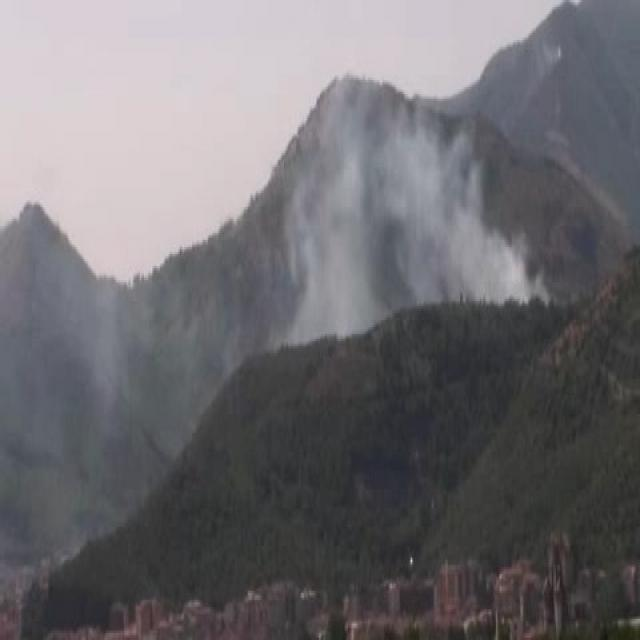smoke: (313, 99, 516, 351)
